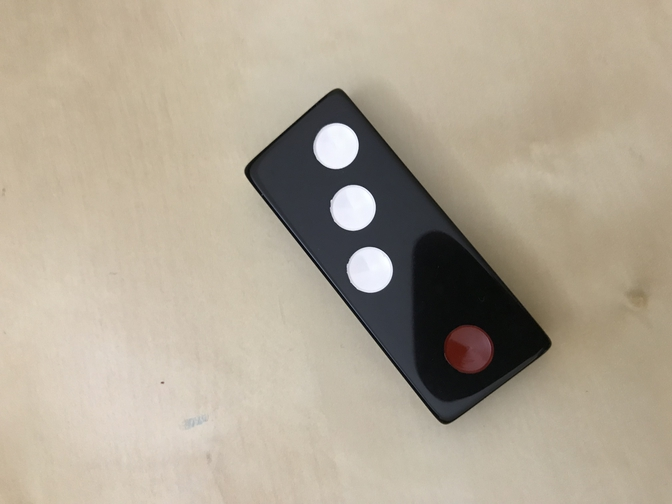goose: (244, 87, 553, 425)
